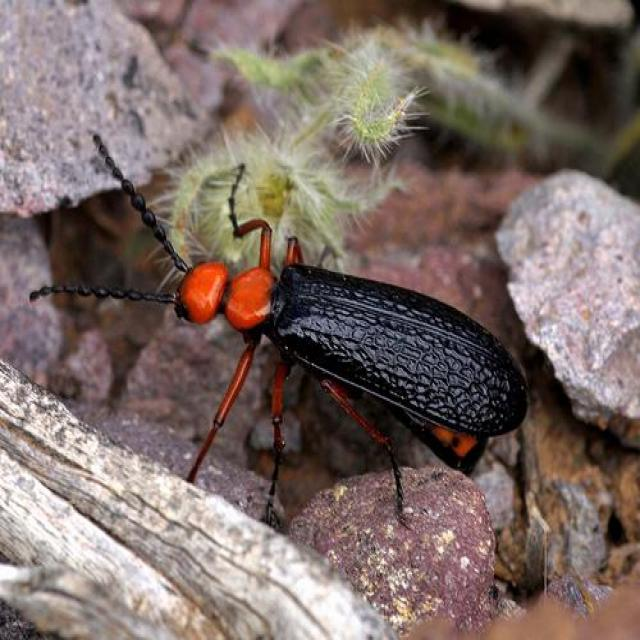BlisterBeetle-Adult-: (63, 130, 538, 496)
